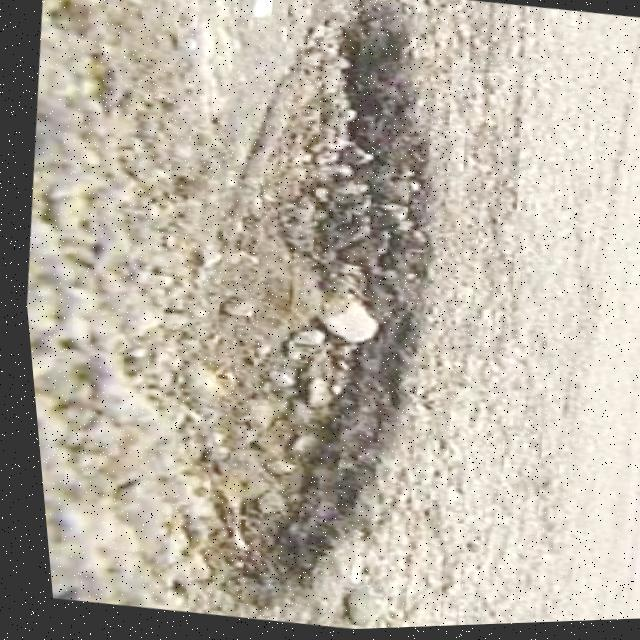pothole: (103, 0, 498, 637)
